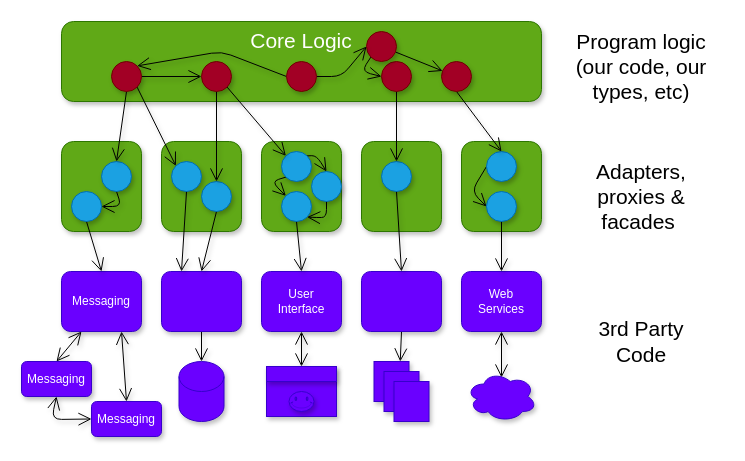
This 745x461 diagram has some shape labels left out. Each missing label, with the centre of its shape:
Persistence: the point at 202,302
Reporting: the point at 402,302
